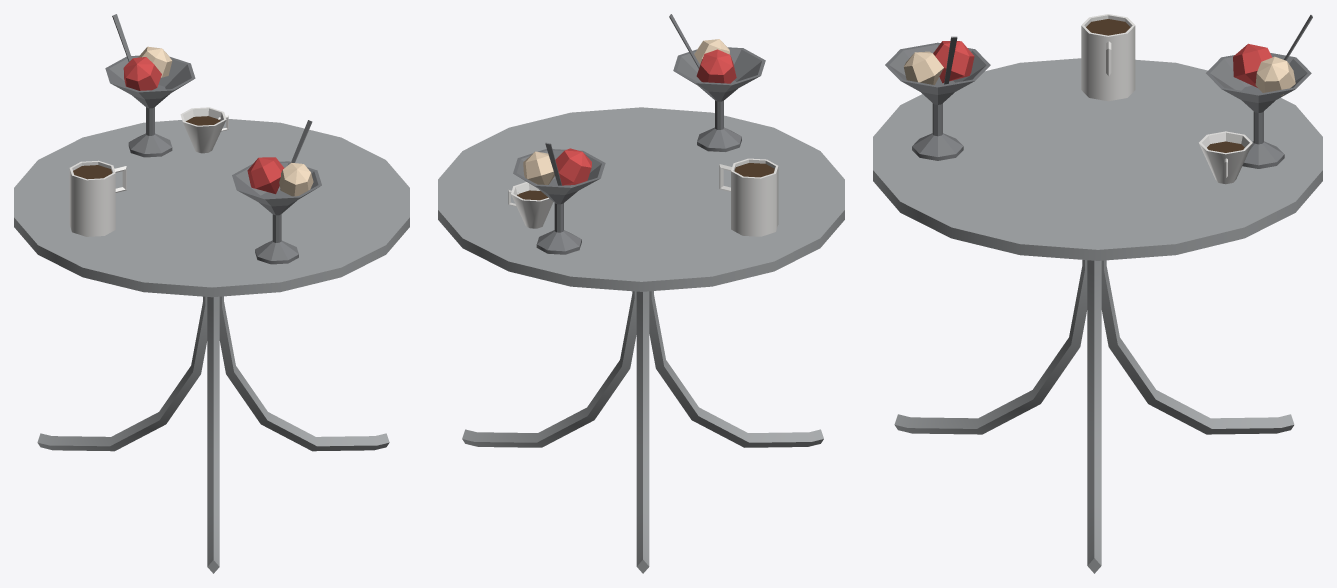
Rendered from SM_table_cafe_full_01.fbx.
3 views of the same model, side by side, from view 1: azimuth 30°, elevation 25°; view 2: azimuth 150°, elevation 25°; view 3: azimuth 270°, elevation 25° (orthographic). The views are drawn at different scales.
Visible parts, largest first — view 1: Line055; view 2: Line055; view 3: Line055.
Part boxes in pixels (x1,y1,x2,y2): Line055: (14, 14, 409, 573); Line055: (438, 14, 844, 573); Line055: (873, 14, 1322, 573).
Size of the model in its own units: 38.05 by 37.48 by 42.37.
